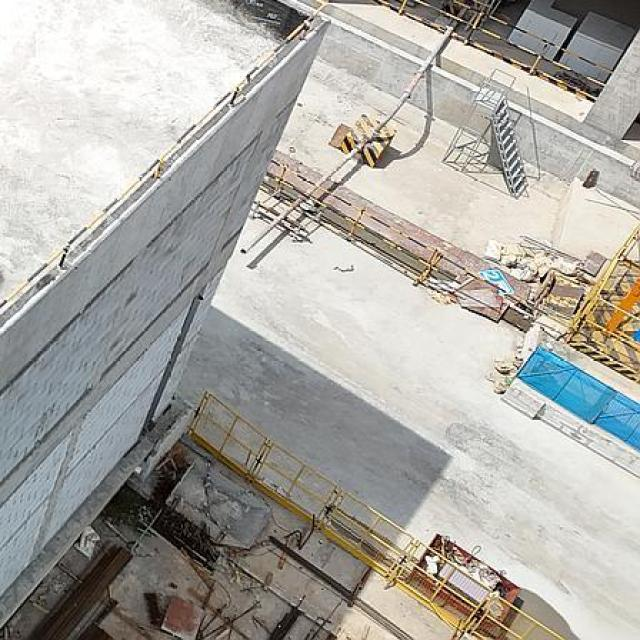edge_guardrail: (0, 0, 331, 310), (396, 0, 614, 87)
